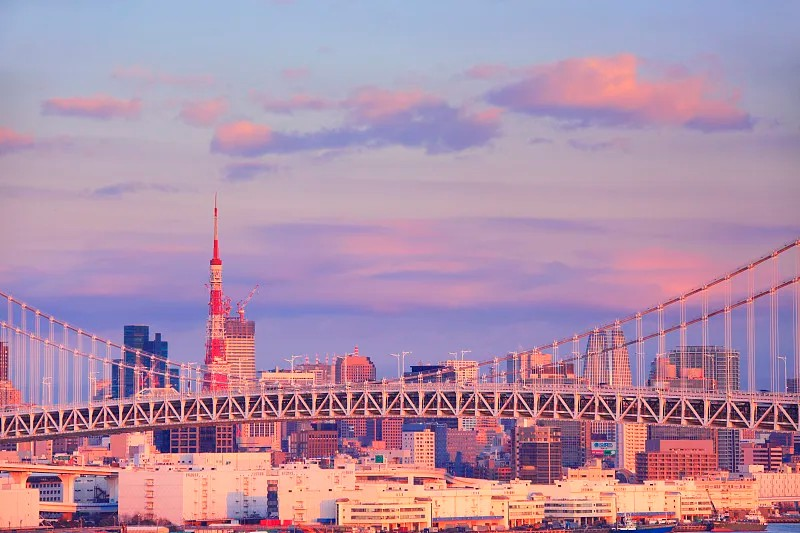Tokyo: (199, 190, 231, 396)
